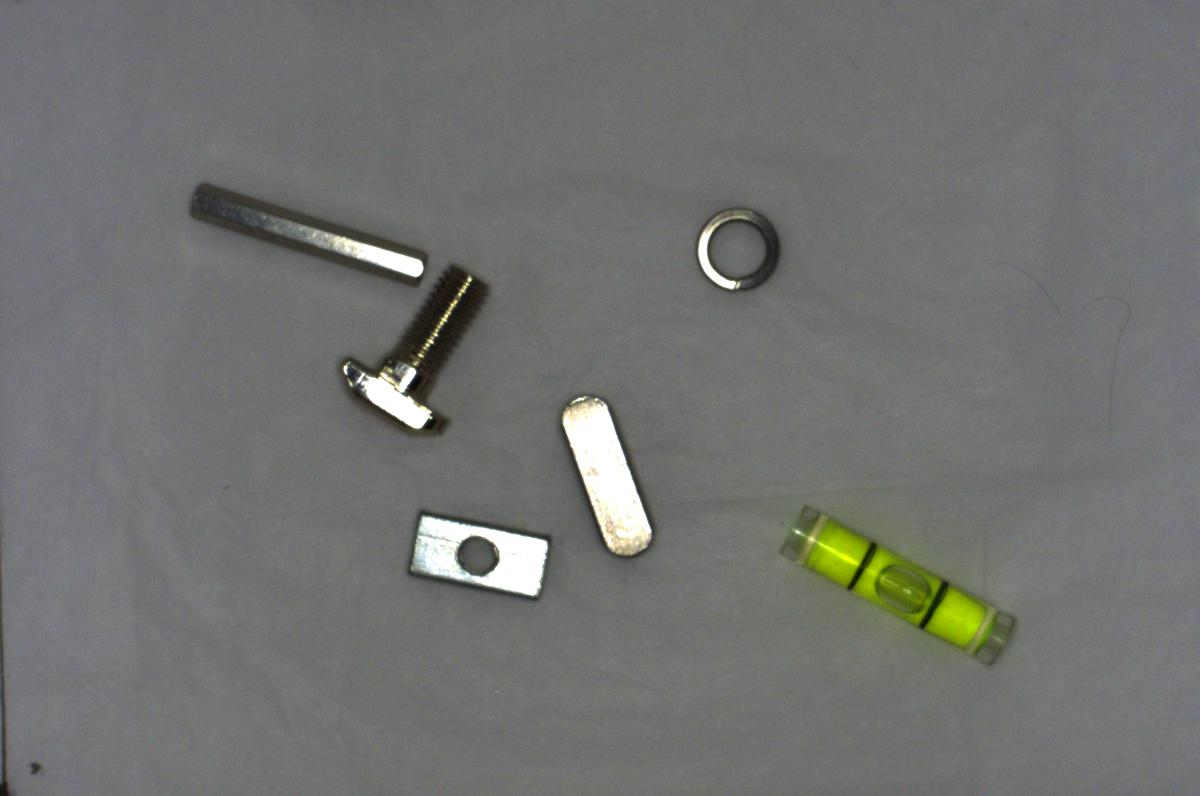Double hexagonal column: (179, 174, 431, 287)
Horizontal bubble: (772, 502, 1026, 672)
Keybar: (552, 383, 659, 563)
Rectangular nut: (399, 508, 551, 602)
Spring washer: (686, 200, 781, 300)
T-shaped screw: (328, 259, 487, 442)
